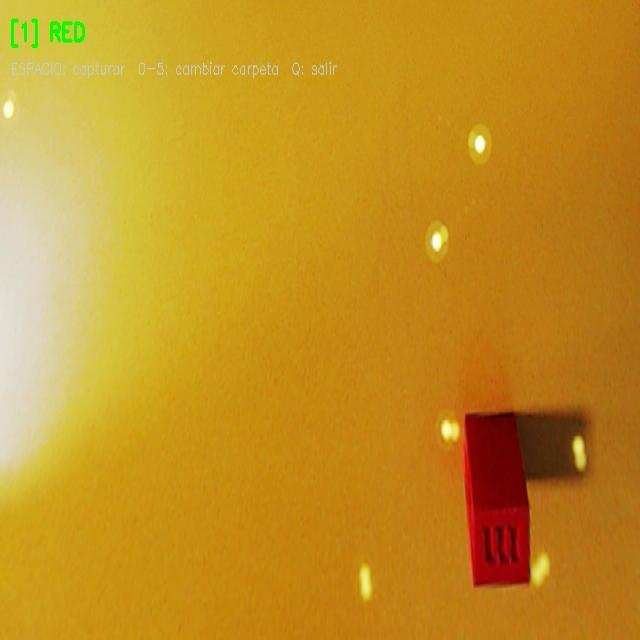red: (464, 415, 528, 584)
